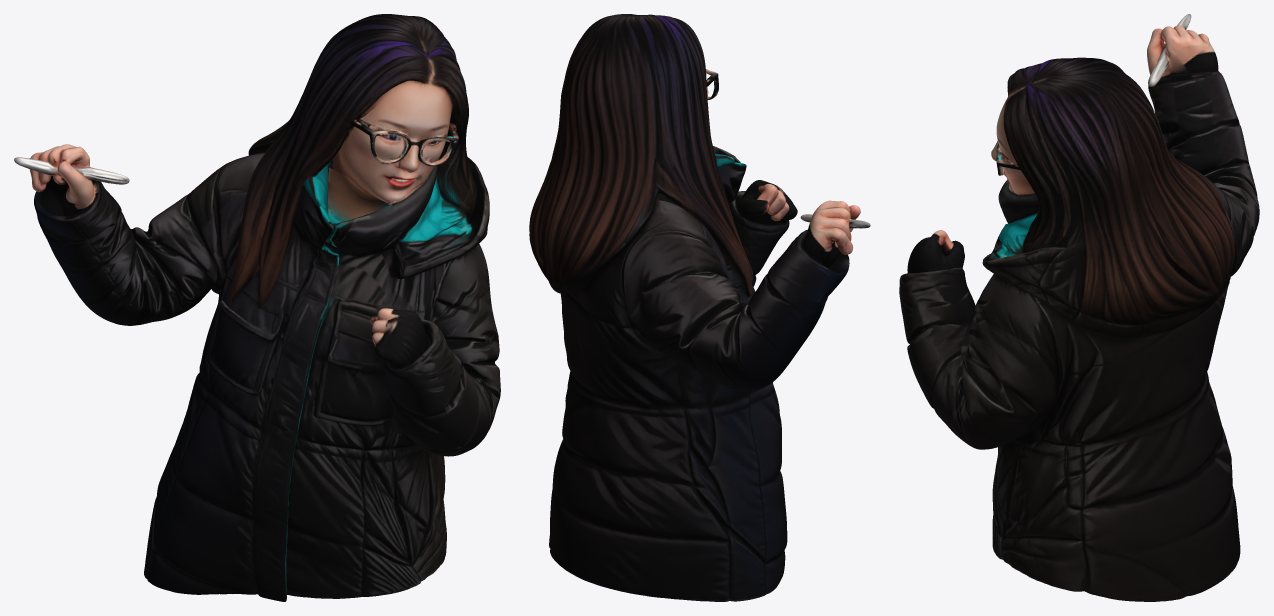
File: hi3d-web.glb
3 views of the same model, side by side, from view 1: azimuth 30°, elevation 25°; view 2: azimuth 150°, elevation 25°; view 3: azimuth 270°, elevation 25° (orthographic). The views are drawn at different scales.
Parts seen in each view (by area): view 1: tmpvnzdherxobj; view 2: tmpvnzdherxobj; view 3: tmpvnzdherxobj.
Part boxes in pixels (x1,y1,x2,y2): tmpvnzdherxobj: (14,14,500,601); tmpvnzdherxobj: (529,14,870,601); tmpvnzdherxobj: (899,14,1259,601).
Bounding box in the file's own units: 0.7708 × 0.9999 × 0.6314.
1 material, 1 textured.
